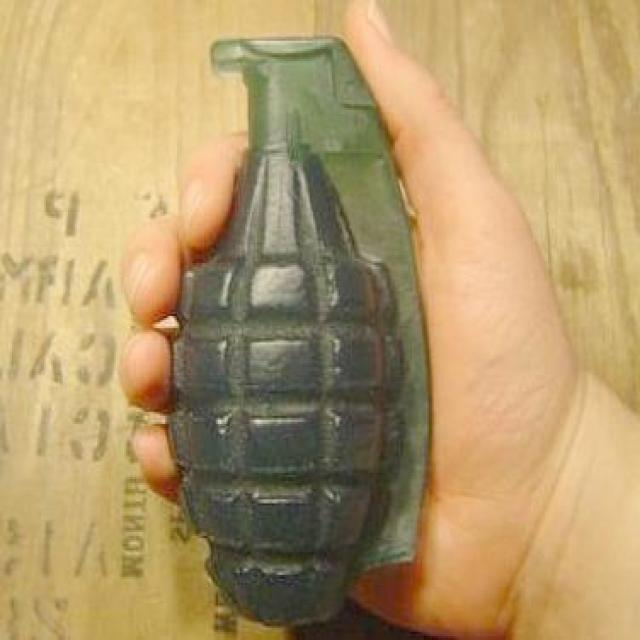grenade: (170, 38, 430, 630)
